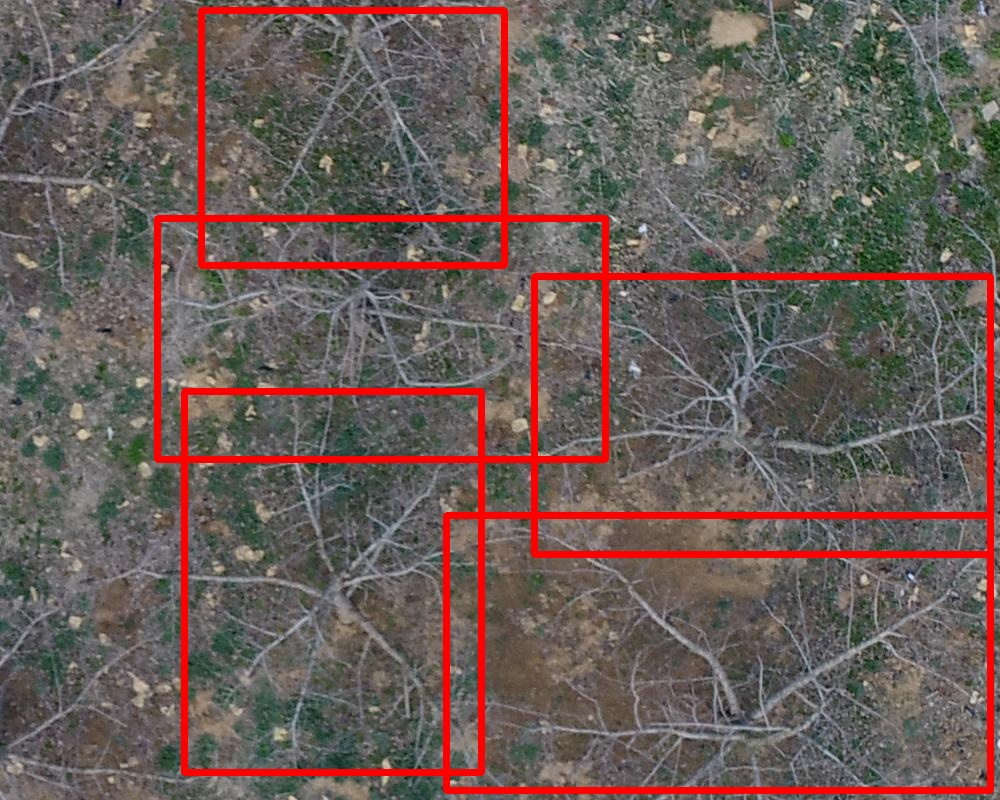apple: (446, 515, 990, 790), (534, 276, 990, 554), (184, 391, 481, 772), (157, 218, 605, 459), (201, 10, 504, 265)
